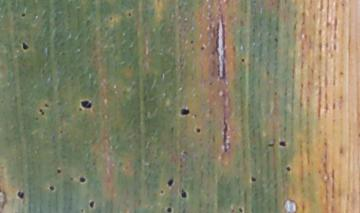tarspot: (79, 98, 92, 110), (20, 40, 30, 51), (179, 107, 190, 116), (16, 190, 25, 200), (278, 139, 287, 149), (38, 106, 46, 117), (180, 187, 187, 199), (78, 175, 87, 184), (249, 174, 258, 183), (88, 199, 96, 209), (338, 142, 344, 155), (167, 177, 174, 188), (265, 142, 276, 148), (165, 205, 173, 213), (207, 79, 215, 87), (48, 185, 56, 192), (58, 128, 65, 136), (272, 36, 279, 44), (338, 69, 345, 77), (339, 1, 347, 8), (126, 10, 132, 19), (331, 101, 336, 111), (20, 12, 27, 19), (199, 44, 206, 51), (108, 15, 115, 22), (55, 167, 62, 174), (176, 4, 183, 11), (195, 126, 201, 134), (189, 38, 195, 46), (285, 165, 291, 173), (272, 89, 278, 97), (265, 69, 270, 78), (237, 206, 243, 213), (240, 57, 245, 64), (159, 188, 164, 195), (43, 102, 49, 107)
